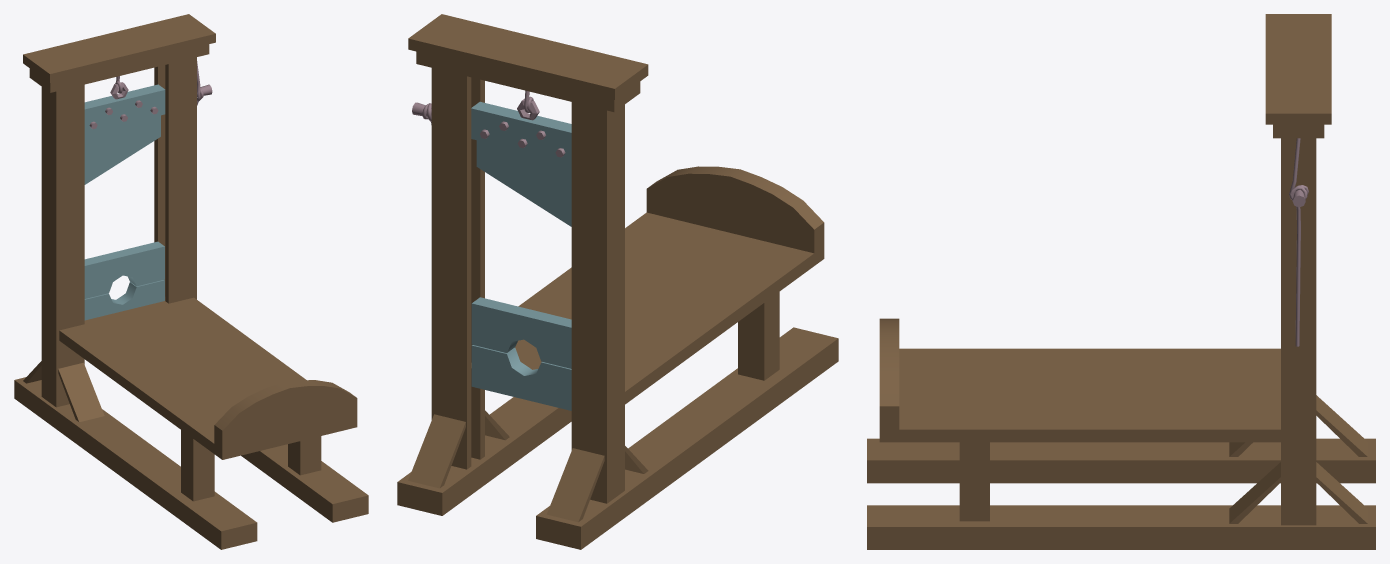
The model's file is Guillotina.fbx.
3 renders of one model, left to right at view 1: azimuth 30°, elevation 25°; view 2: azimuth 150°, elevation 25°; view 3: azimuth 270°, elevation 25°, orthographic. The views are drawn at different scales.
Parts seen in each view (by area): view 1: polySurface40, polySurface32, polySurface36; view 2: polySurface40, polySurface32, polySurface36; view 3: polySurface40, polySurface36.
Boxes of the visible parts, x1,y1,x2,y2 form: polySurface40: (14, 14, 368, 549); polySurface32: (84, 84, 165, 320); polySurface36: (89, 61, 212, 129); polySurface40: (397, 14, 838, 549); polySurface32: (471, 101, 571, 410); polySurface36: (412, 90, 565, 157); polySurface40: (867, 14, 1375, 549); polySurface36: (1289, 138, 1308, 346).
Size of the model in its own units: 1.64 by 3.25 by 3.39.
